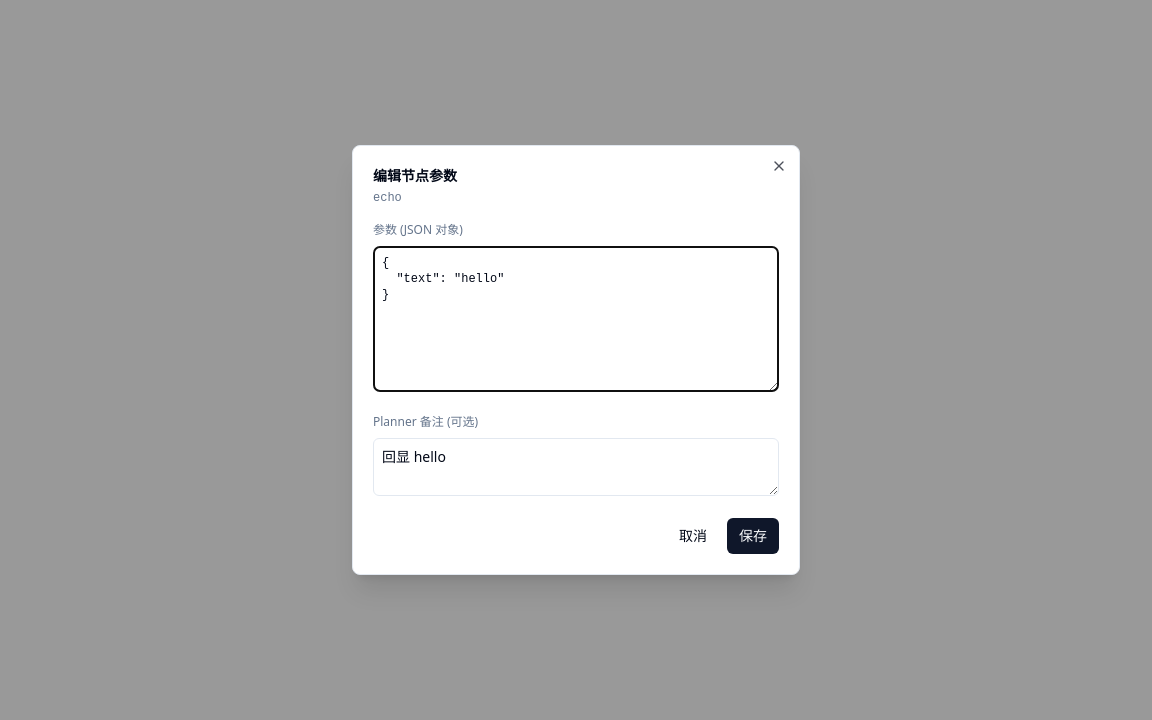
Test: NodeEditDialog › surfaces backend 409 message_zh and keeps the dialog open on conflict
Click the button with test id "node-edit-submit": x=753, y=536 x1=727 y1=518 x2=779 y2=554
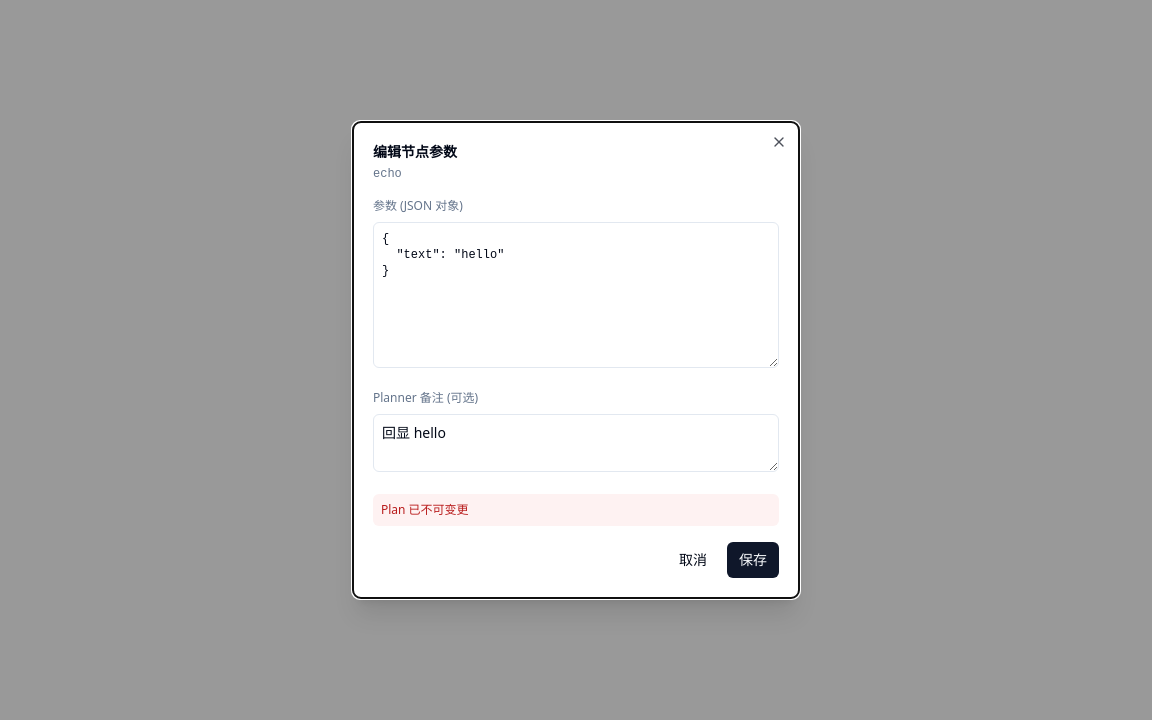
Check: the dialog with test id "node-edit-dialog" is shown, box x1=352 y1=121 x2=800 y2=599
Check: the message with test id "node-edit-error" reads "Plan 已不可变更", box x1=381 y1=501 x2=469 y2=518
